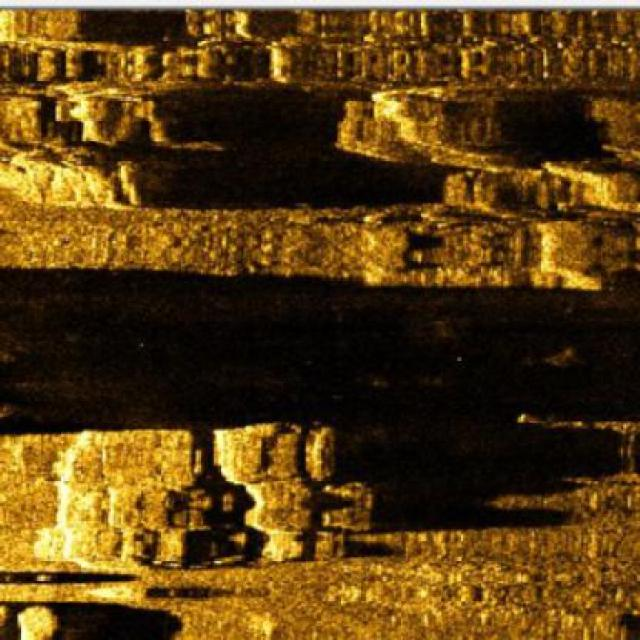bedrock group: (1, 8, 639, 288), (35, 424, 378, 568)
